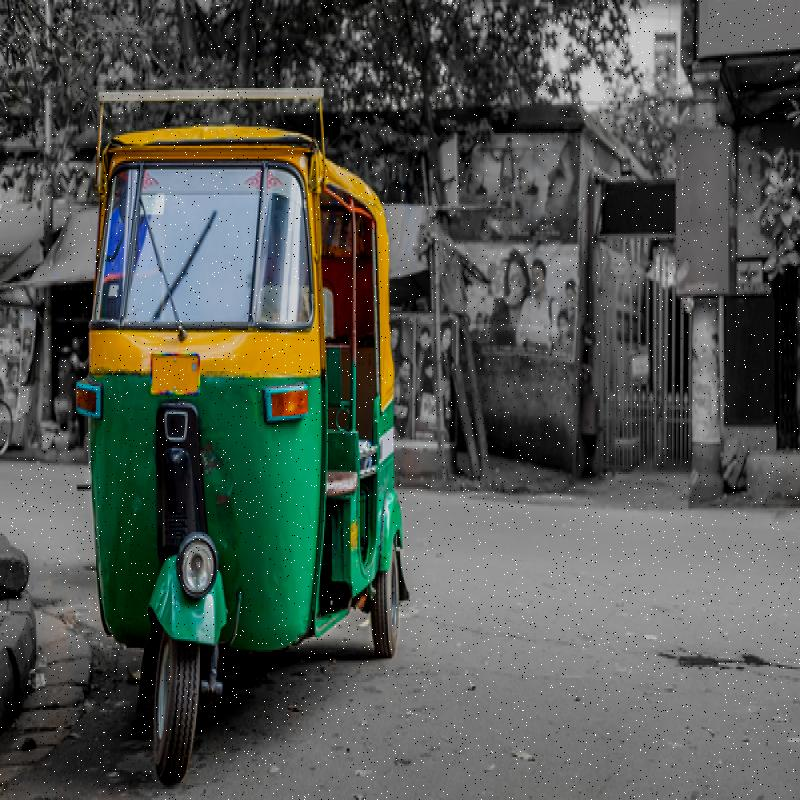auto: (87, 135, 401, 765)
